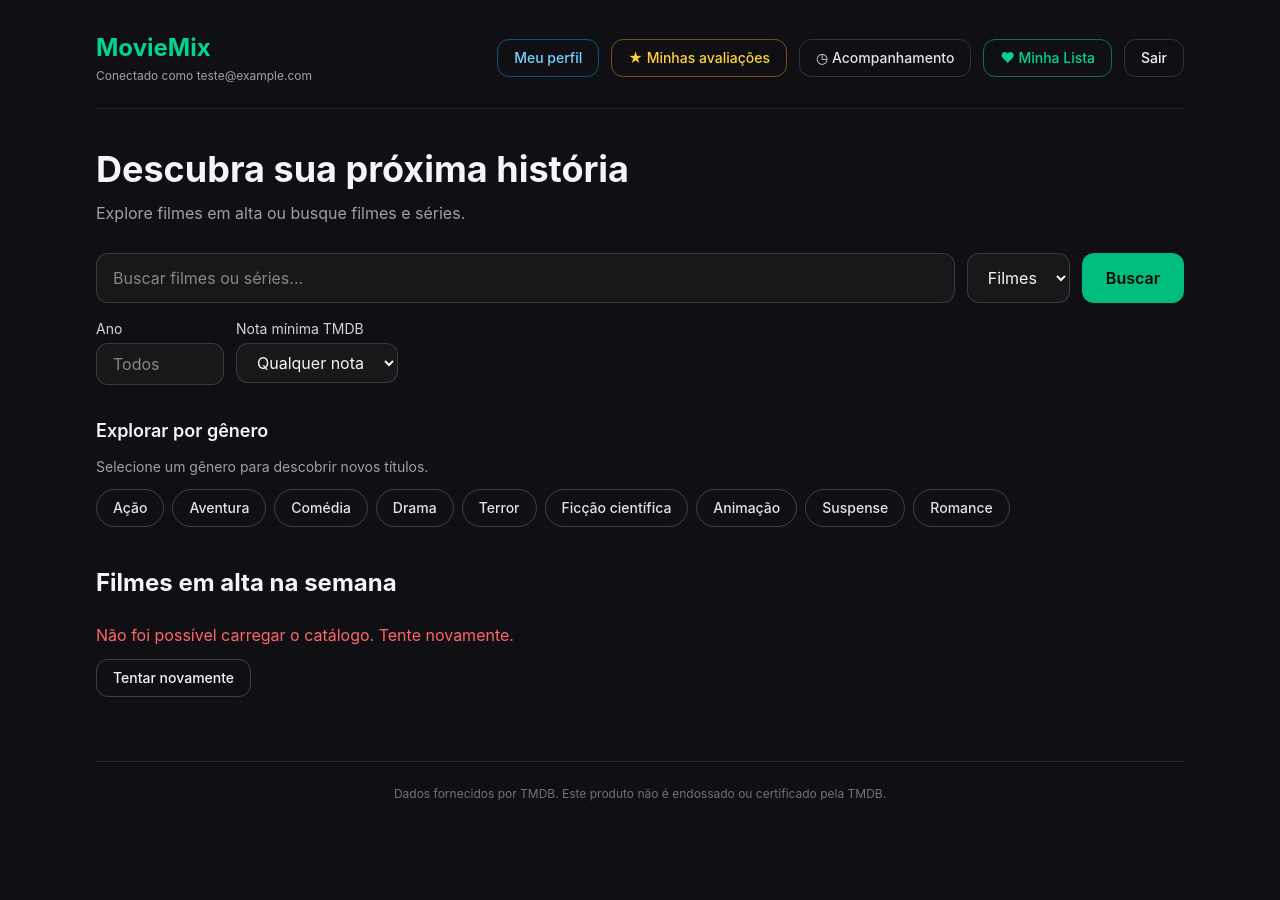
Scenario: acessibilidade e recuperação do catálogo › permite repetir a busca do catálogo após uma falha
Expected: the message "Não foi possível carregar o catálogo. Tente novamente." is shown, [96, 625, 514, 645]
Click the button "Tentar novamente": (174, 678) [96, 659, 251, 697]
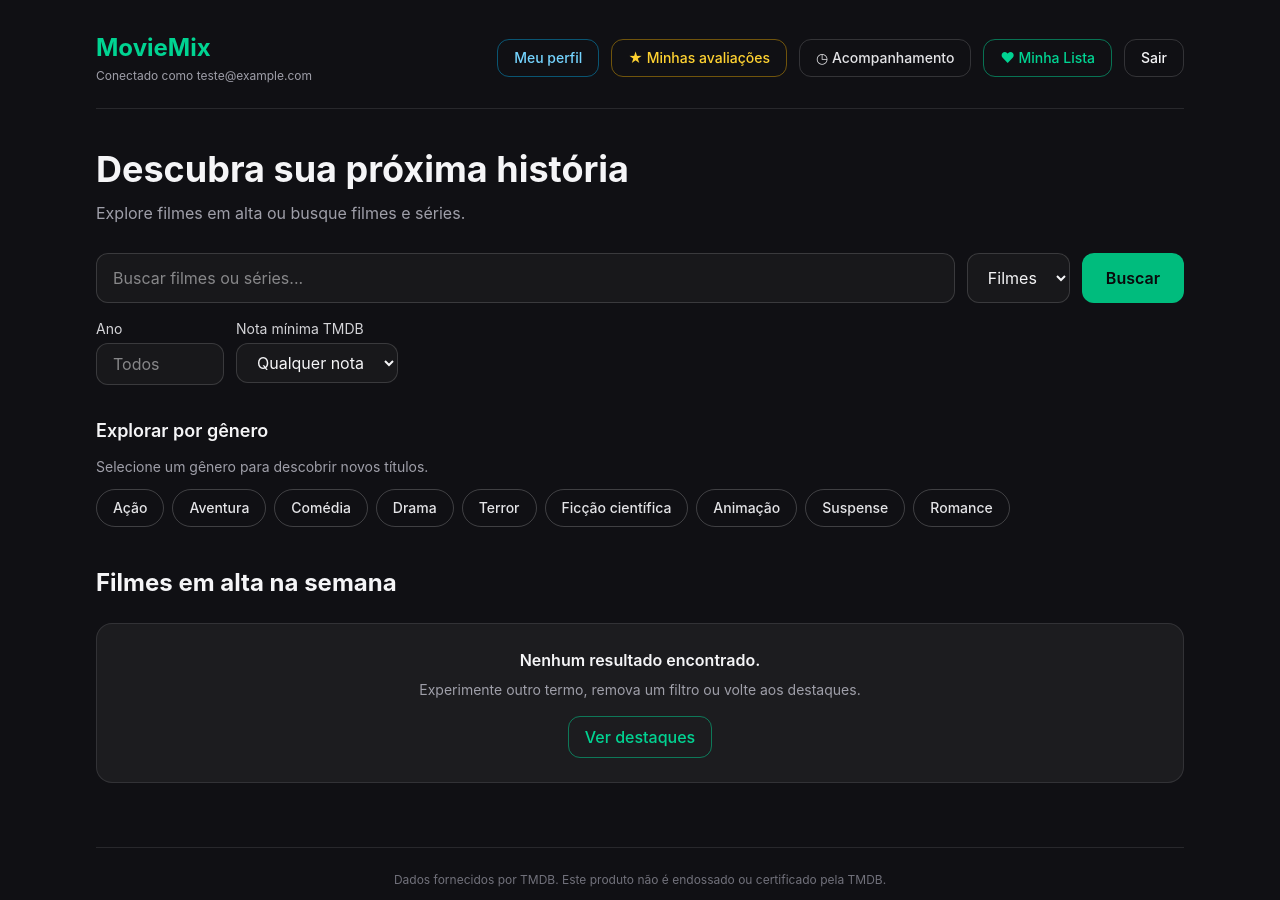
Expected: the text "Nenhum resultado encontrado." is shown, [520, 650, 760, 670]
